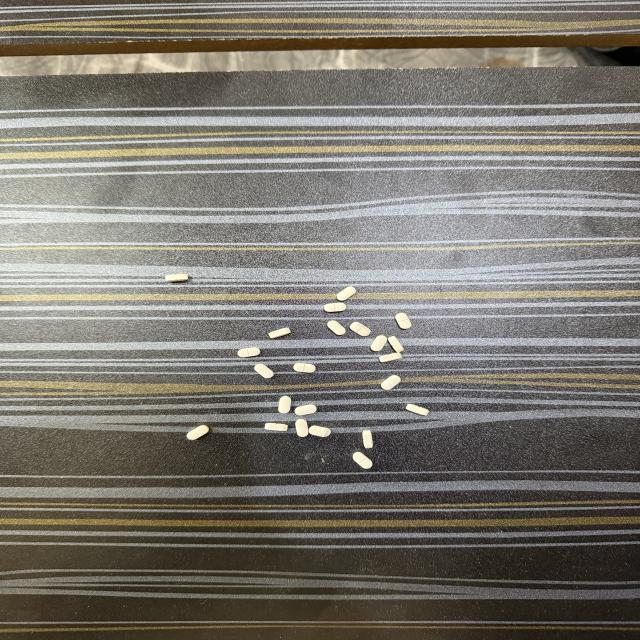pill: (187, 425, 209, 440), (353, 452, 372, 469), (336, 286, 356, 302), (381, 375, 400, 390), (350, 322, 370, 336), (294, 404, 317, 416), (327, 321, 346, 335), (254, 364, 273, 378), (395, 313, 411, 329), (406, 404, 428, 415), (309, 426, 331, 437), (371, 336, 387, 351), (388, 337, 403, 352), (278, 396, 291, 413), (324, 302, 346, 312), (269, 328, 291, 338), (296, 419, 308, 437), (293, 363, 315, 372), (238, 348, 260, 357), (379, 353, 401, 362), (363, 430, 373, 448), (166, 274, 188, 282), (265, 423, 287, 431)
